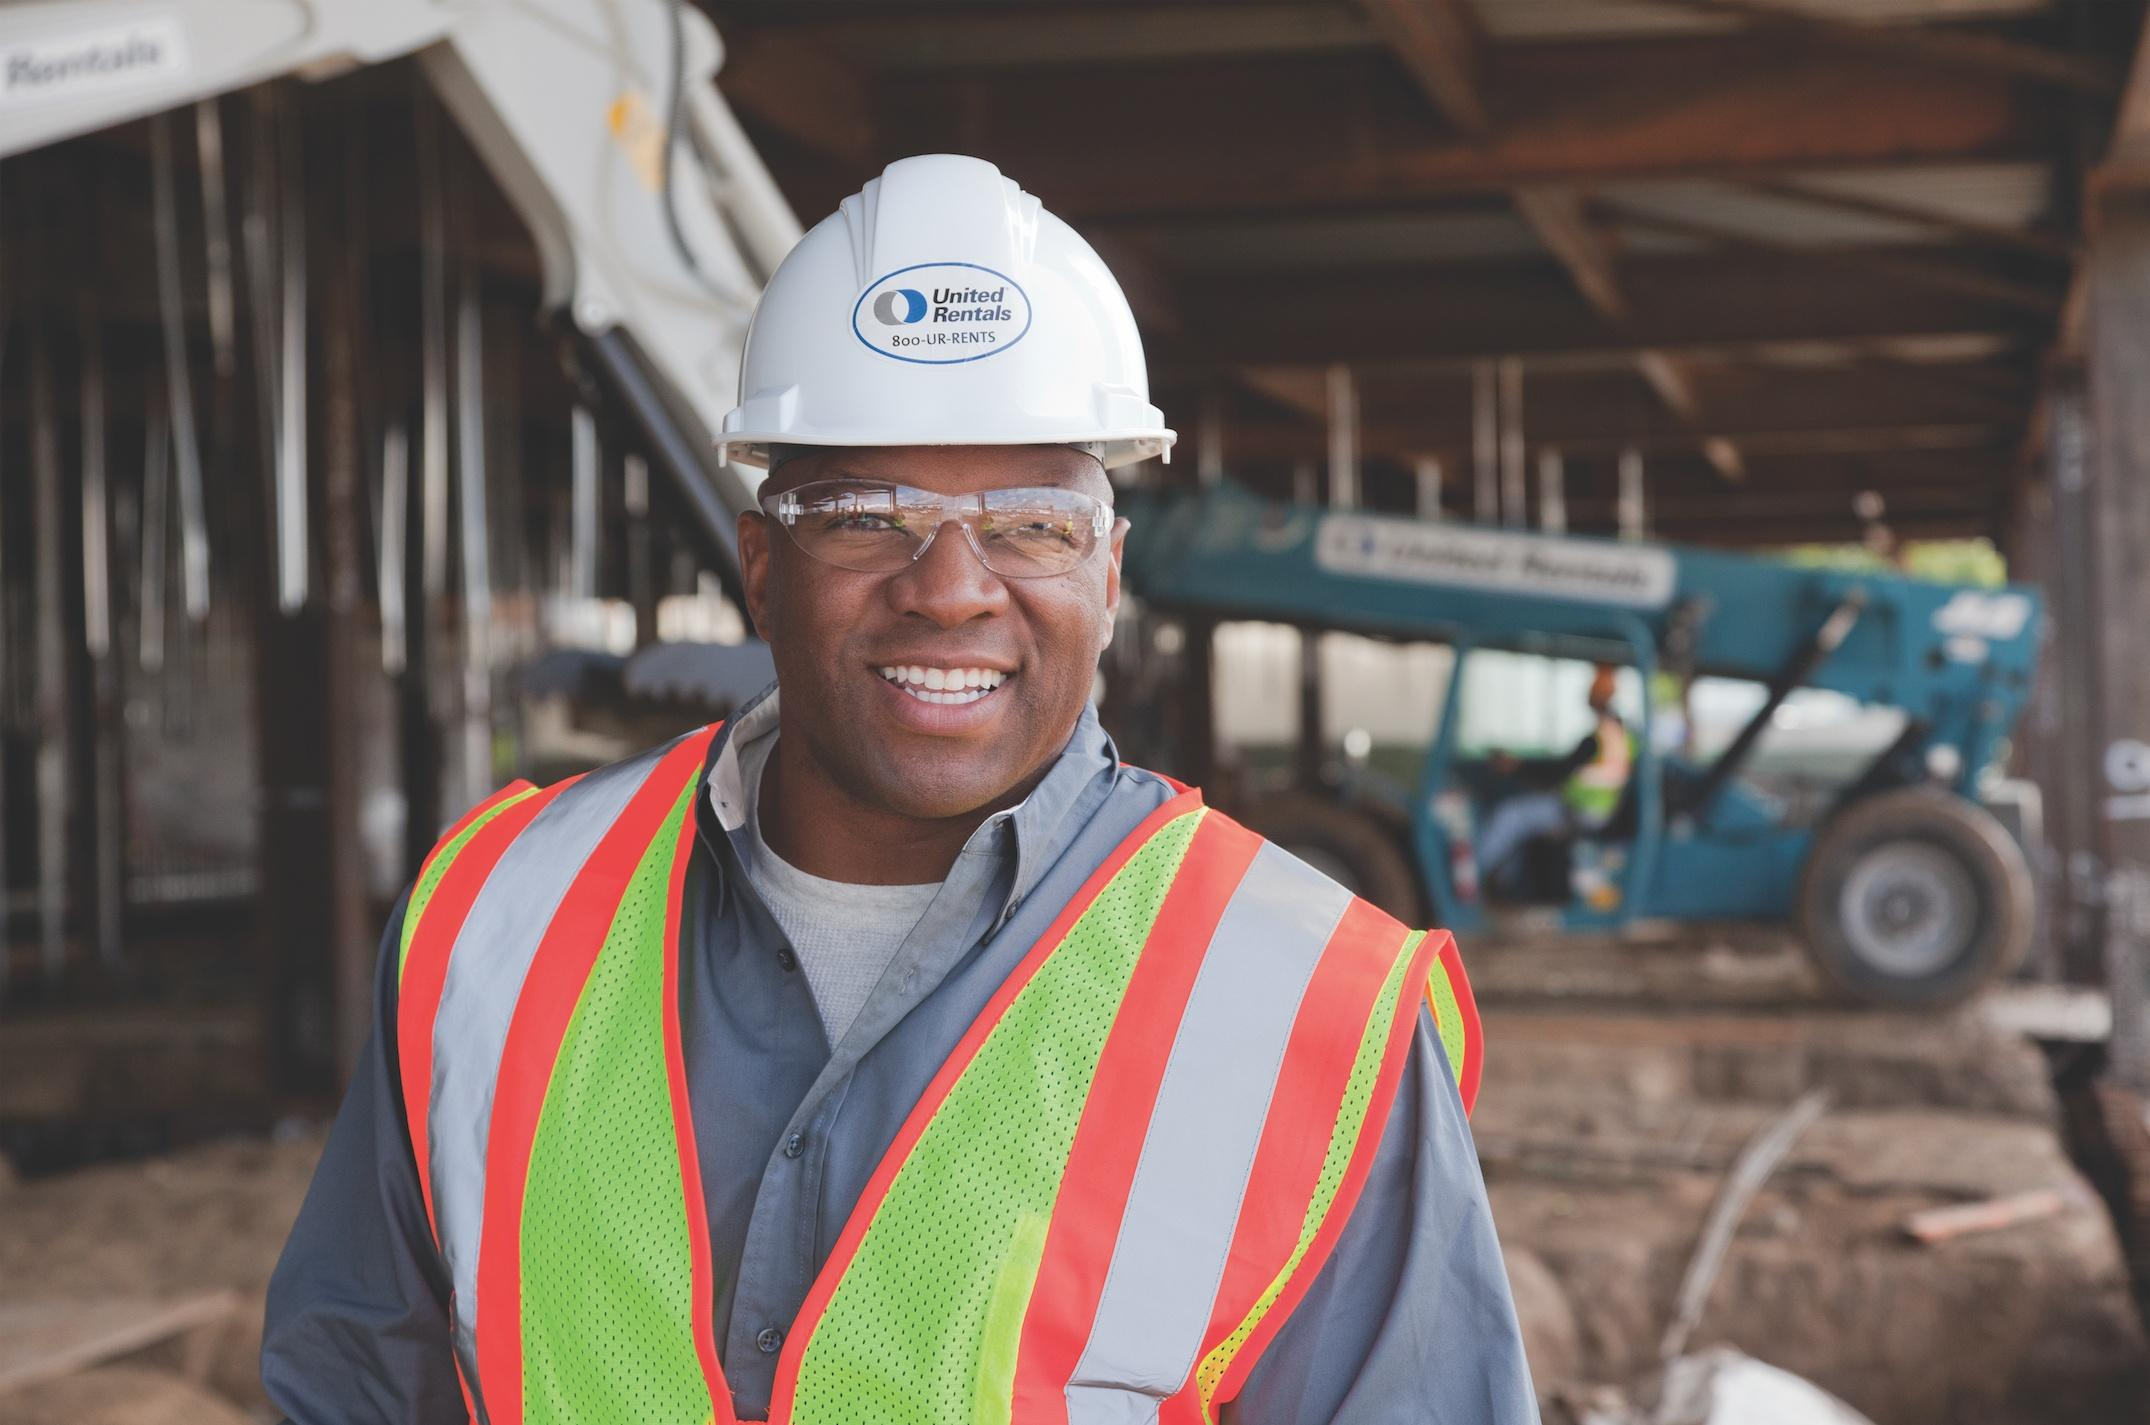helmet: (720, 153, 1178, 456)
